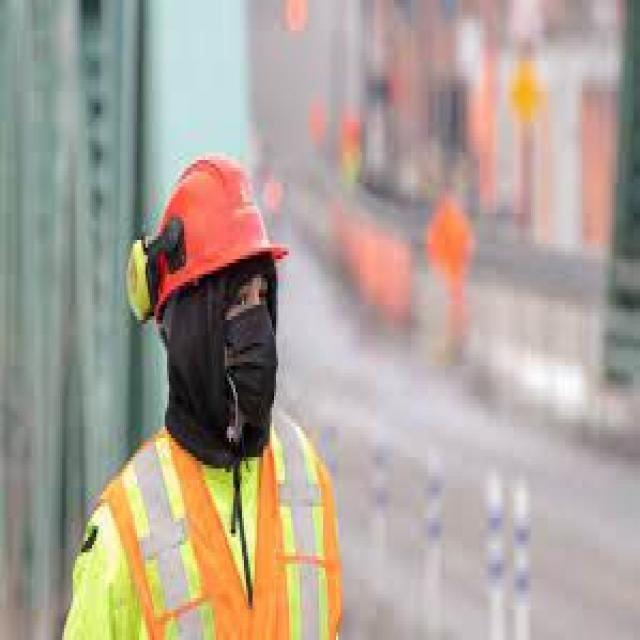reflective_jacket: (59, 404, 355, 639)
safety_helmet: (126, 140, 295, 331)
